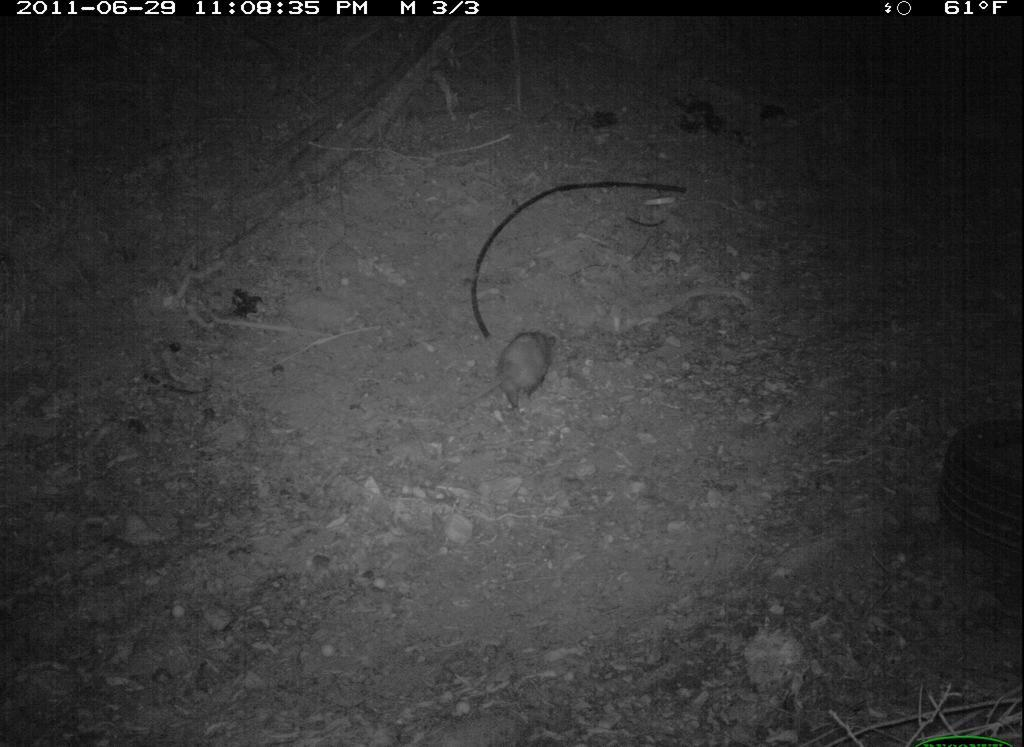opossum: (449, 322, 570, 450)
